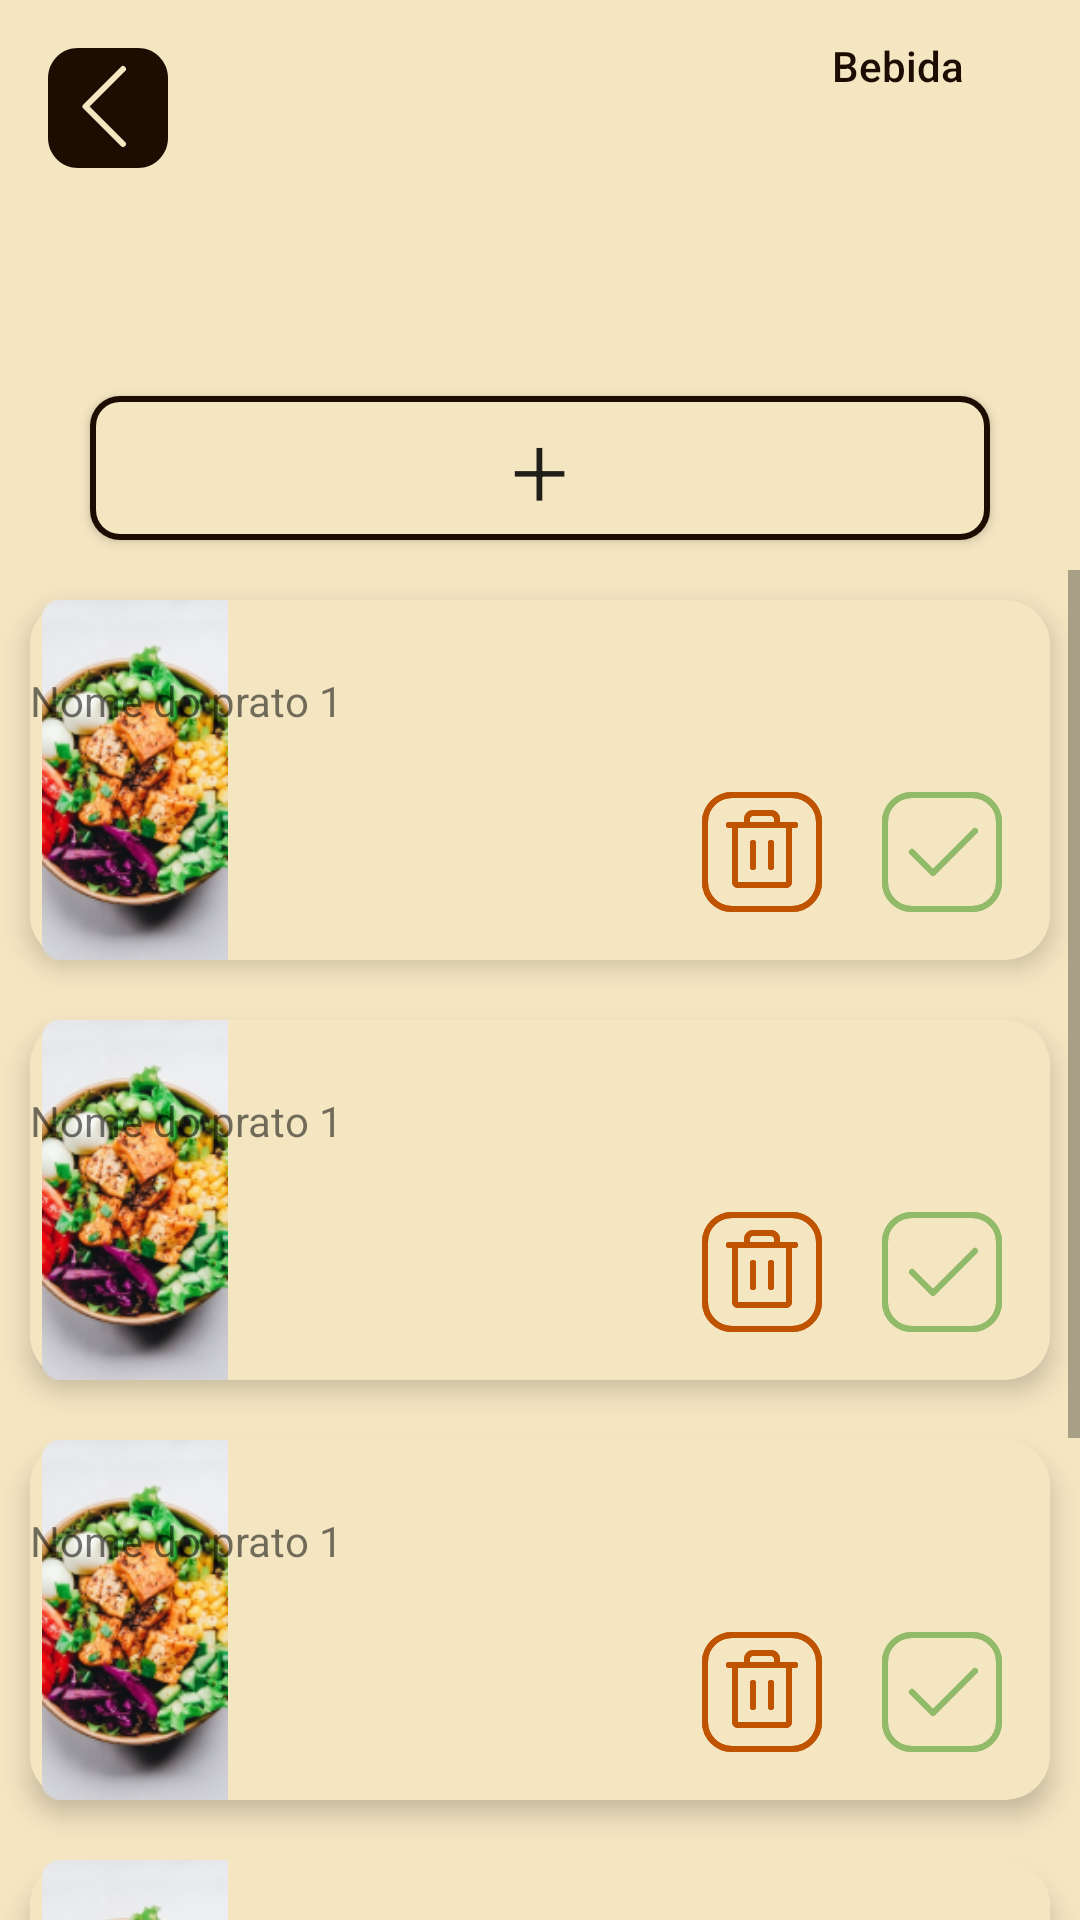

Locate icon controls on the screen. Image size 1080 × 1920, boxes as [x1=x1, y1=y1, x2=x2, y2=y2].
back: [x1=48, y1=48, x2=168, y2=168]
confirm: [x1=882, y1=792, x2=1002, y2=912], [x1=882, y1=1212, x2=1002, y2=1332], [x1=882, y1=1632, x2=1002, y2=1752]
trash: [x1=702, y1=792, x2=822, y2=912], [x1=702, y1=1212, x2=822, y2=1332], [x1=702, y1=1632, x2=822, y2=1752]
